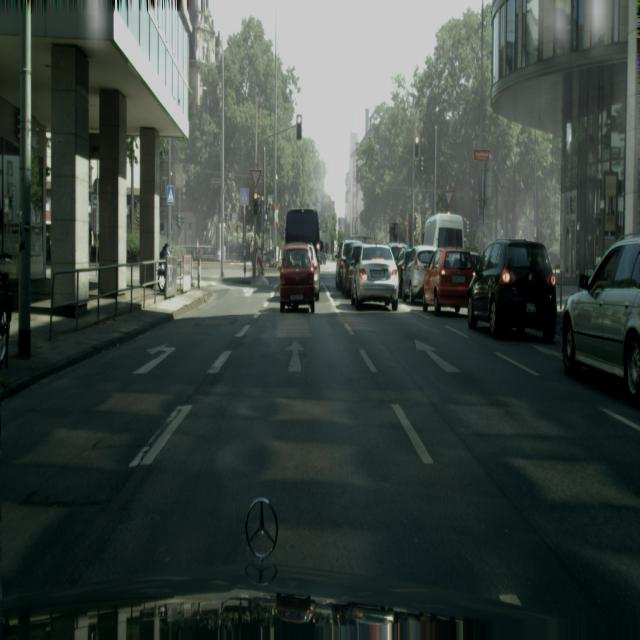motorcycle: (283, 208, 322, 288), (423, 212, 468, 250)
truck: (561, 234, 640, 404), (467, 238, 557, 342), (422, 248, 477, 315), (350, 243, 399, 312), (279, 244, 316, 313), (401, 244, 437, 304), (335, 239, 359, 294)
